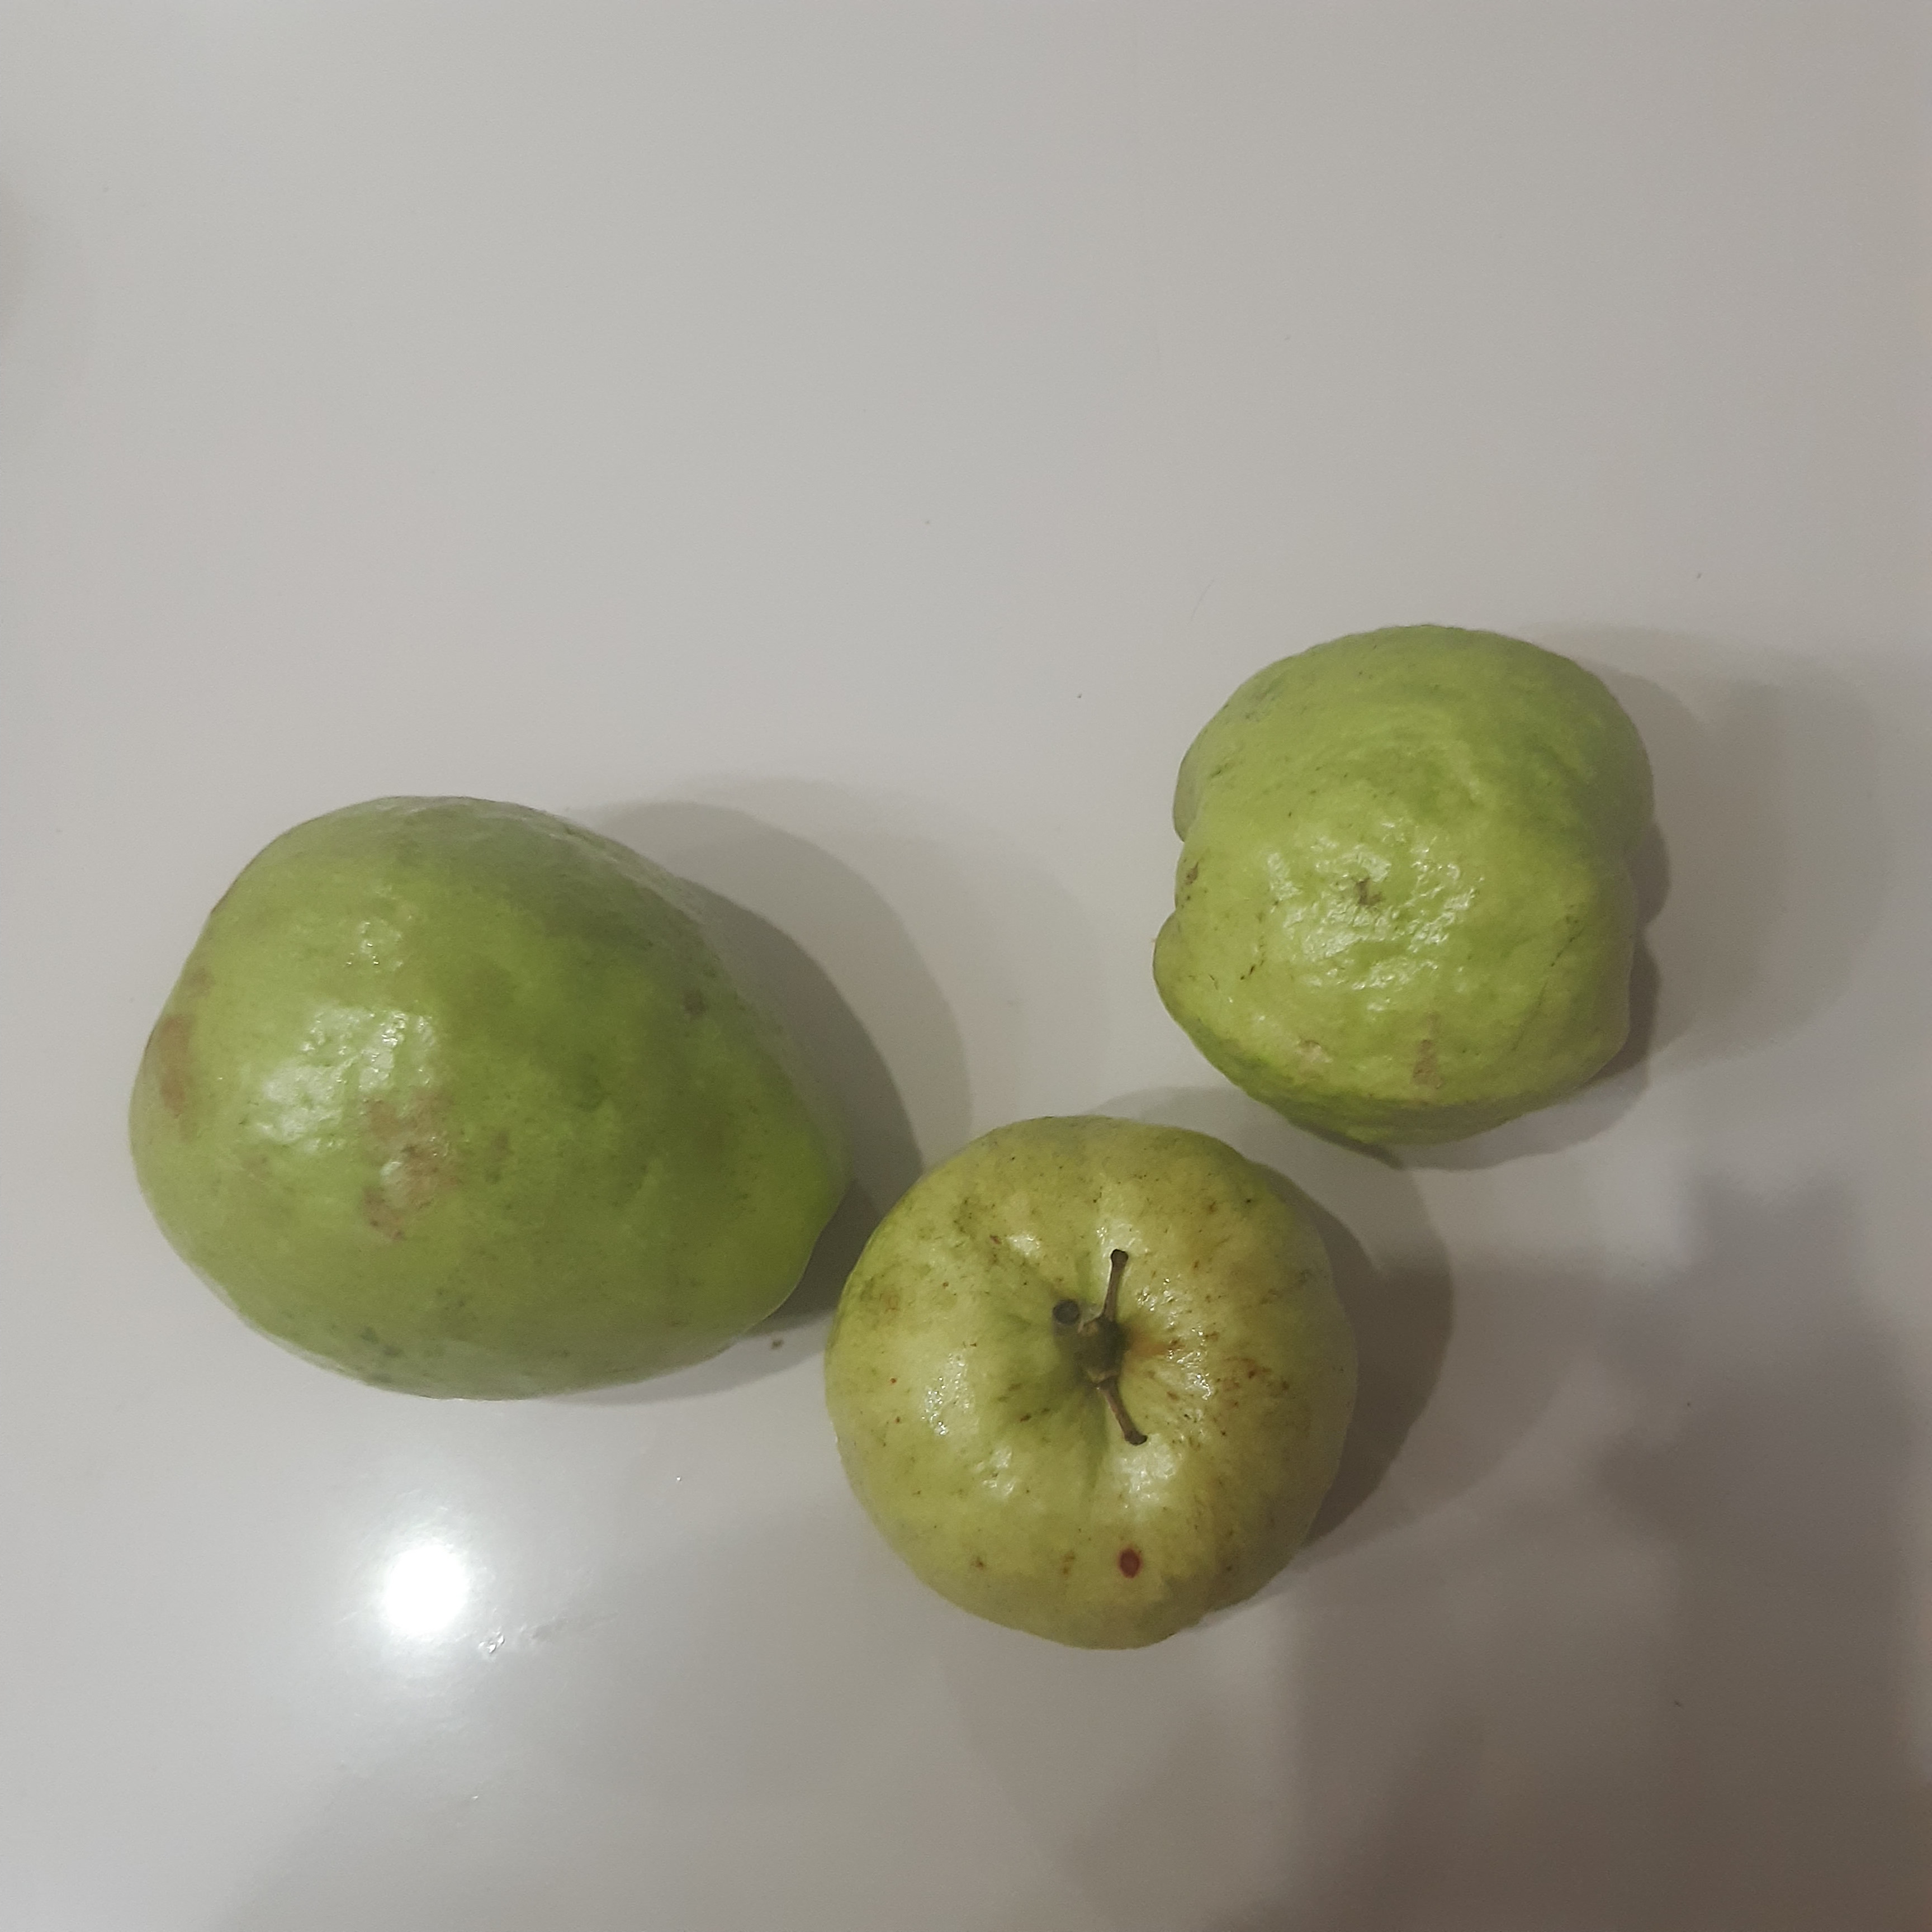Oi: (127, 796, 849, 1399), (819, 1115, 1355, 1652), (1152, 626, 1654, 1155)
